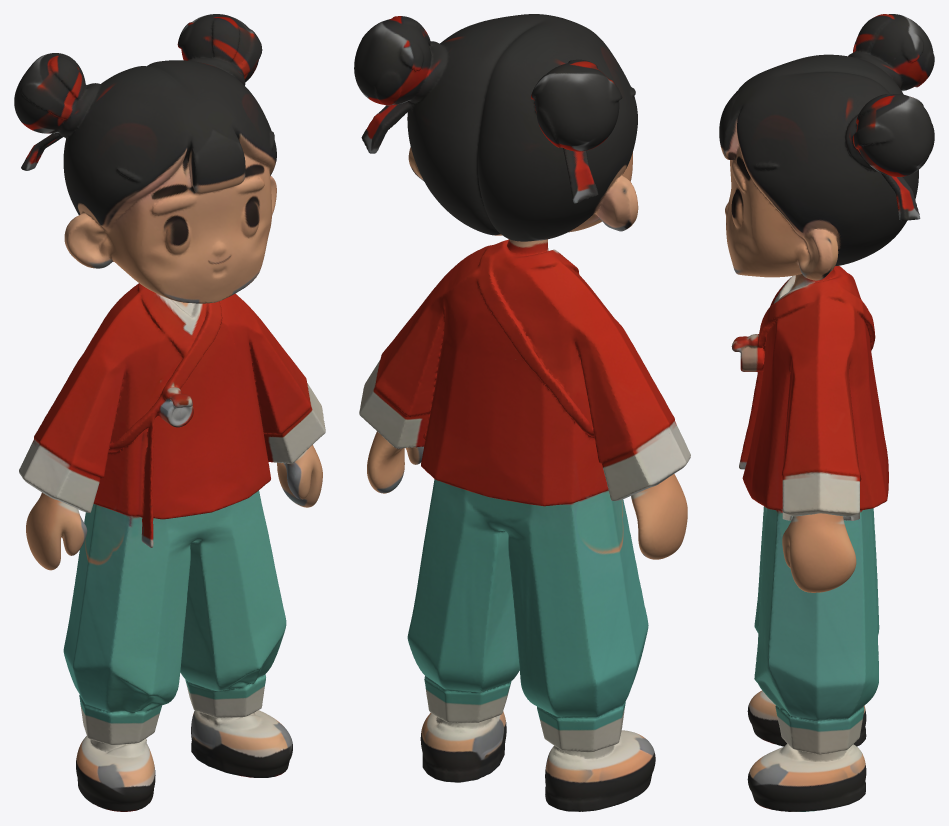
File: child_A_h25.glb
The picture shows the model from 3 angles, left to right: view 1: azimuth 30°, elevation 25°; view 2: azimuth 150°, elevation 25°; view 3: azimuth 270°, elevation 25°; orthographic projection. The views are drawn at different scales.
Parts seen in each view (by area): view 1: tripo_node_4cbc3fba-a0b7-4eb9-b80f-dfae74a5b462; view 2: tripo_node_4cbc3fba-a0b7-4eb9-b80f-dfae74a5b462; view 3: tripo_node_4cbc3fba-a0b7-4eb9-b80f-dfae74a5b462.
Part boxes in pixels (box(x1,y1,x2,y2)): tripo_node_4cbc3fba-a0b7-4eb9-b80f-dfae74a5b462: box(14, 14, 325, 811); tripo_node_4cbc3fba-a0b7-4eb9-b80f-dfae74a5b462: box(354, 14, 690, 811); tripo_node_4cbc3fba-a0b7-4eb9-b80f-dfae74a5b462: box(719, 14, 934, 811).
Size of the model in its own units: 0.4407 by 1 by 0.2753.
Materials: 1 (1 with a texture image).
